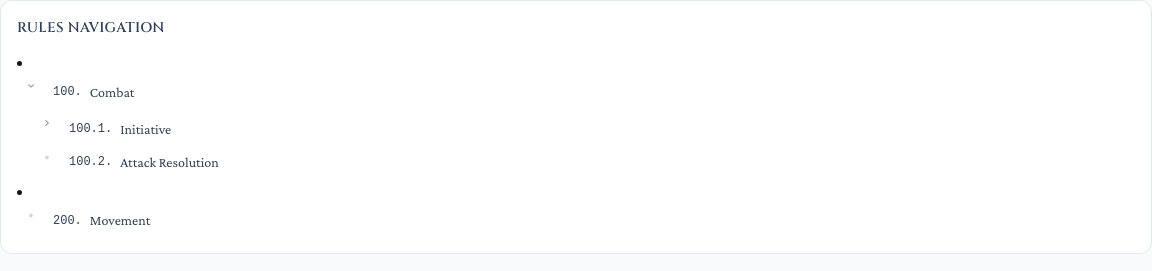
Scenario: RuleTree › Keyboard Navigation › should expand with ArrowRight key when collapsed
The image size is (1152, 271).
Click the button named "Collapse Combat": (31, 86) [21,76,41,96]
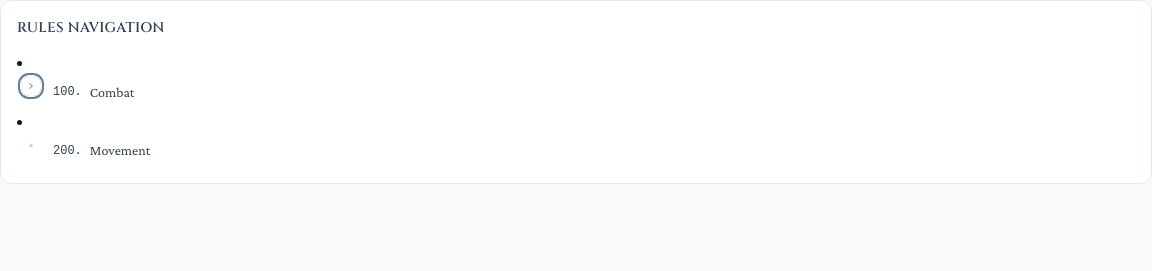
Press Arrowright
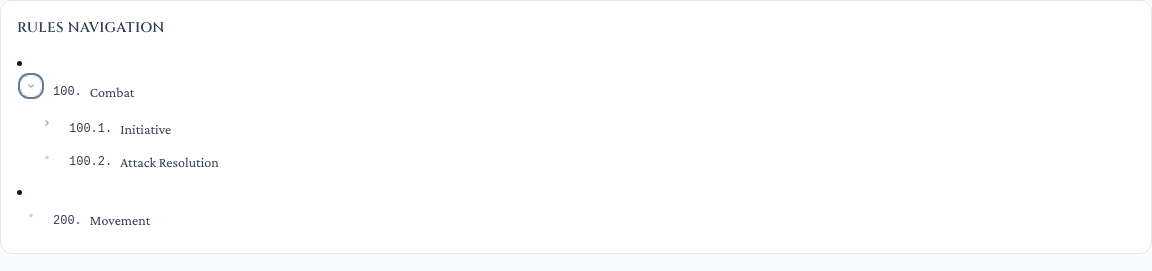
Check: the text "Initiative" is shown, box [120,121,171,137]
